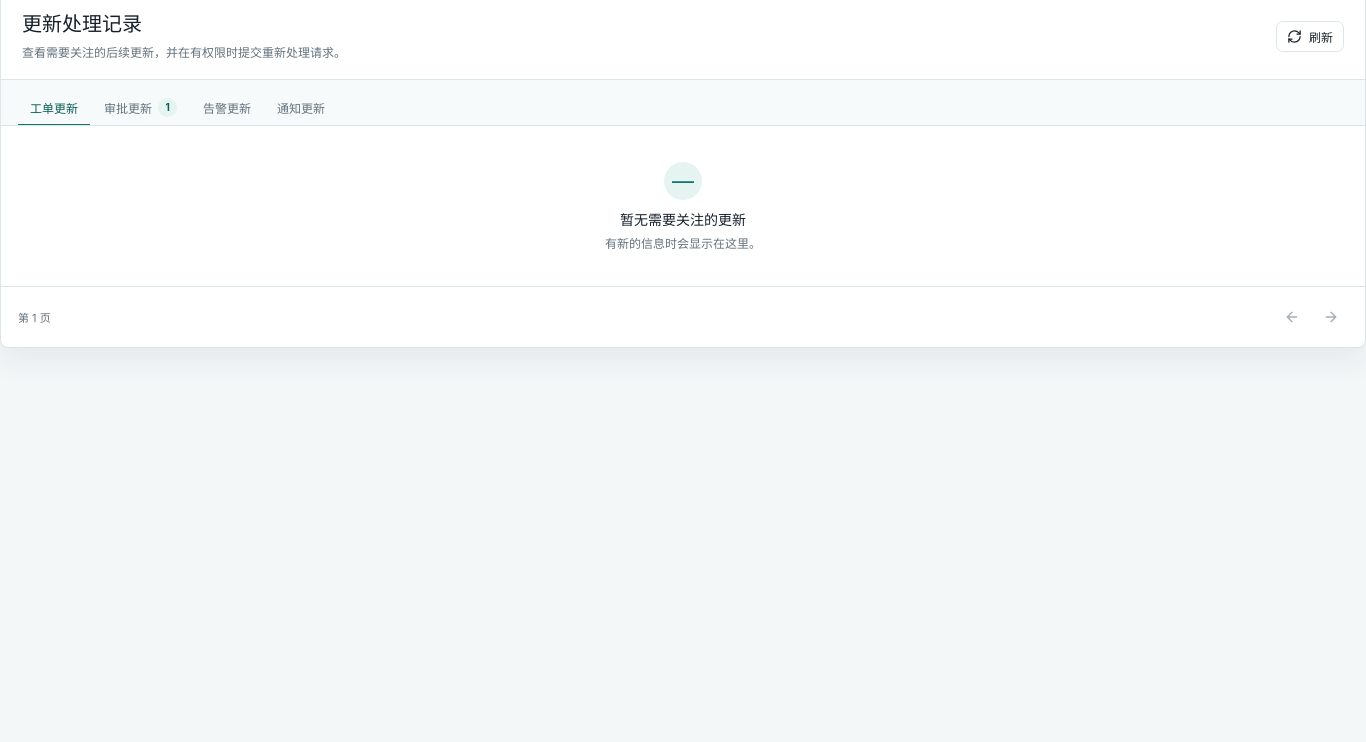
RecoveryPanel › uses the stable validation code when the replay reason is empty
Click the tab "审批更新 1". click: (140, 108)
box: [92,90,189,126]
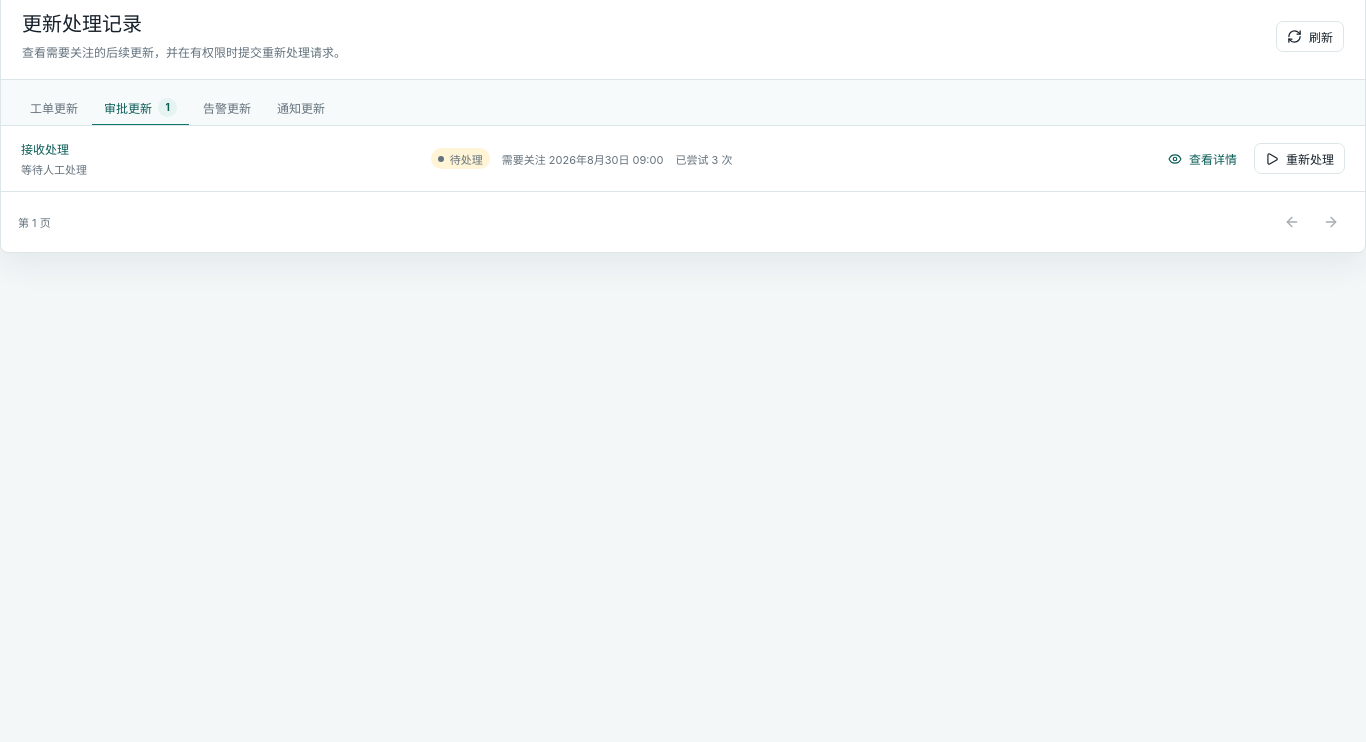
Click the button "重新处理". click: (1300, 158)
box: [1254,143,1345,174]
(page scrolled)
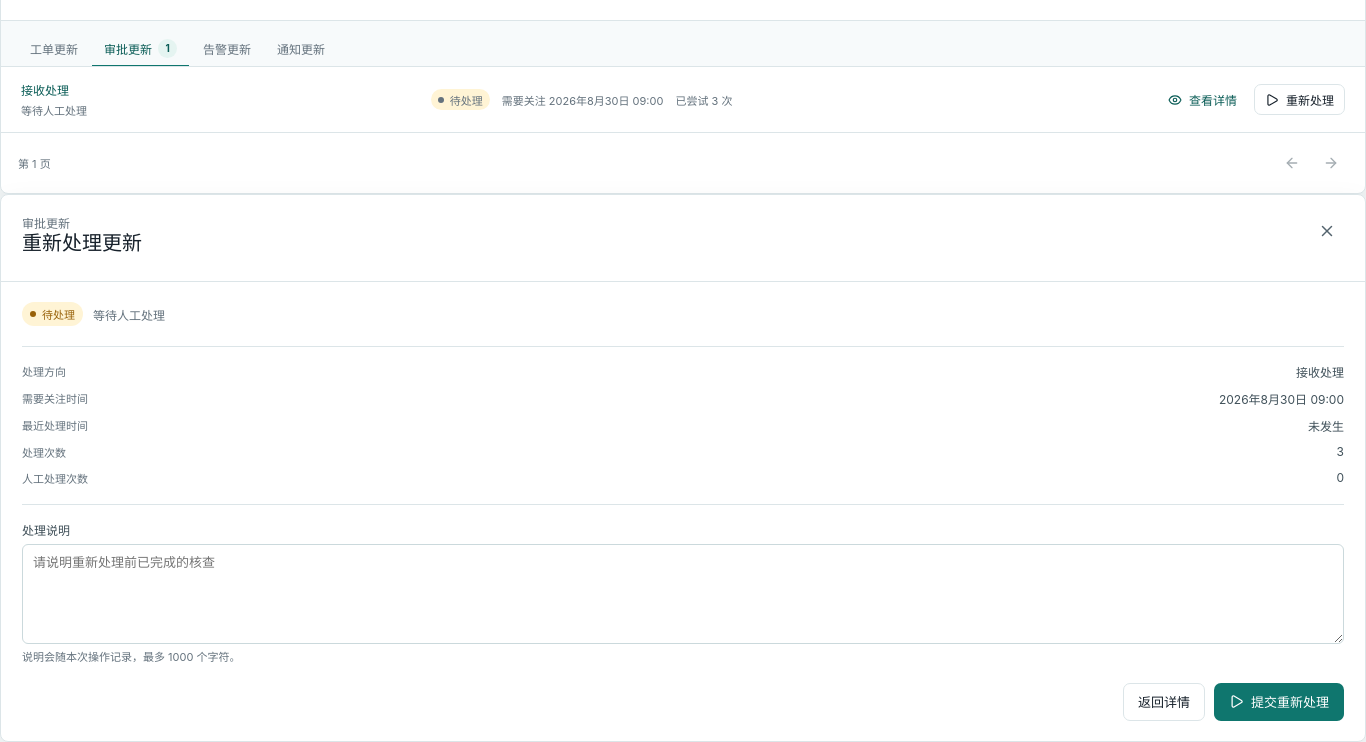
Submit the form with class "recovery-replay-form", box [22,504,1344,721]
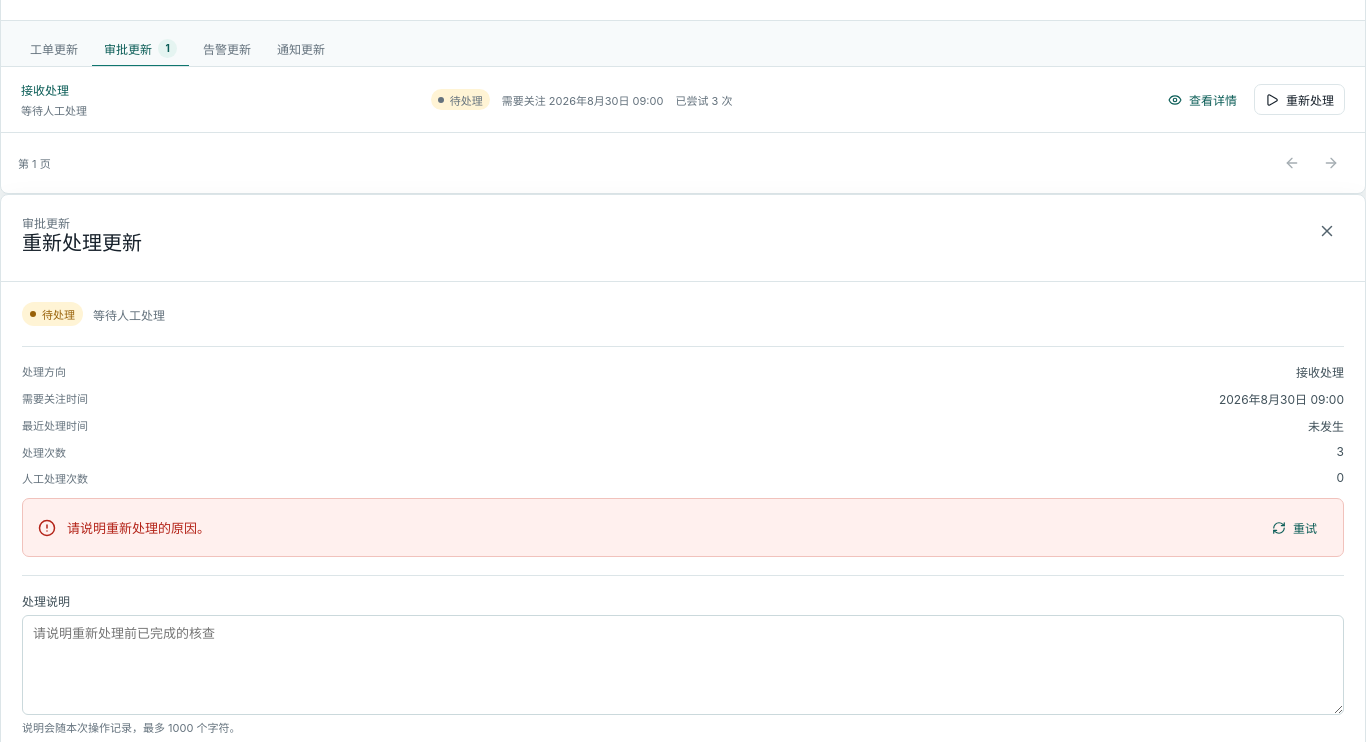
Now the text "请说明重新处理的原因" is shown, box [67,520,210,536]
